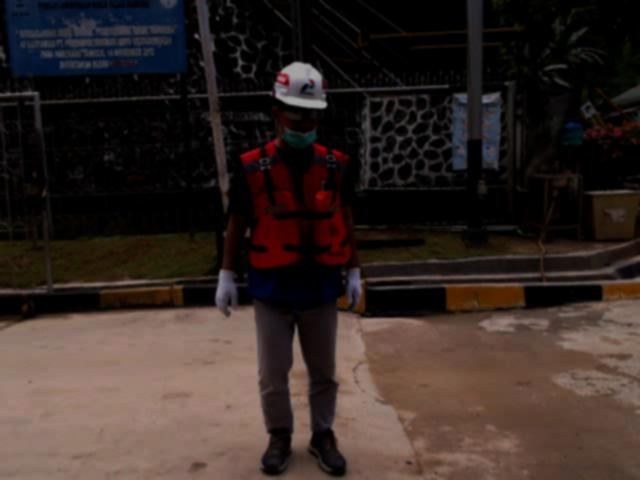glasses: (283, 106, 322, 121)
gloves: (214, 266, 240, 319), (344, 268, 365, 316)
helmet: (270, 61, 332, 109)
mask: (281, 126, 317, 150)
safety-shoes: (308, 426, 349, 477), (260, 426, 294, 477)
vest: (249, 189, 351, 273)
